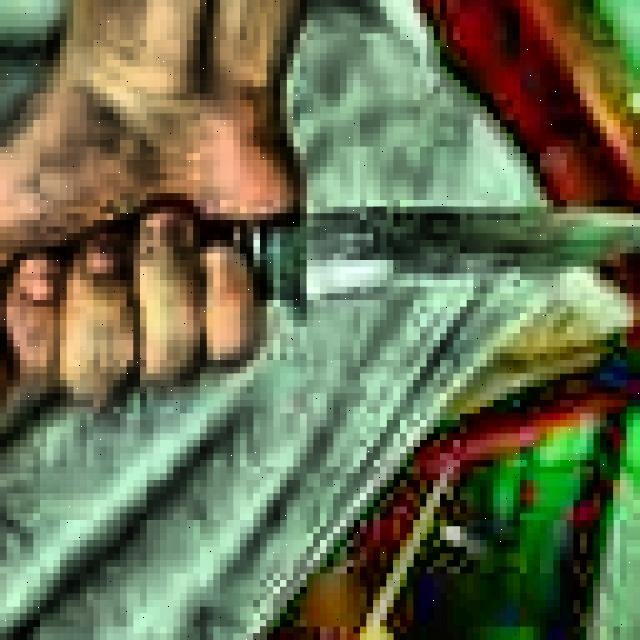knife: (93, 200, 640, 313)
